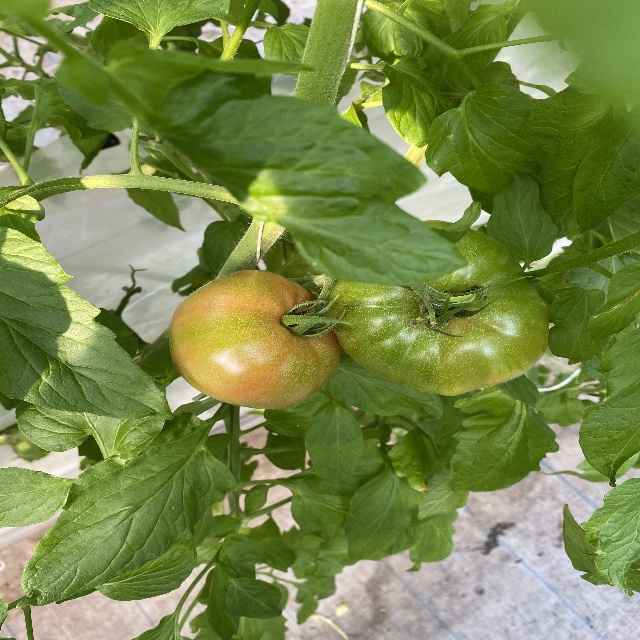b_green: (324, 220, 549, 397)
b_half_ripened: (168, 269, 343, 409)
